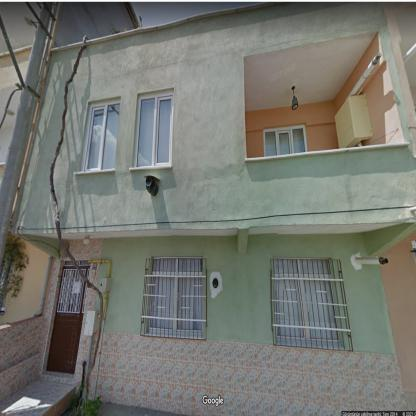door: (47, 262, 86, 374), (75, 260, 90, 278)
window: (274, 258, 340, 341), (149, 258, 202, 332), (134, 91, 173, 167), (80, 100, 120, 172), (263, 124, 307, 156)
